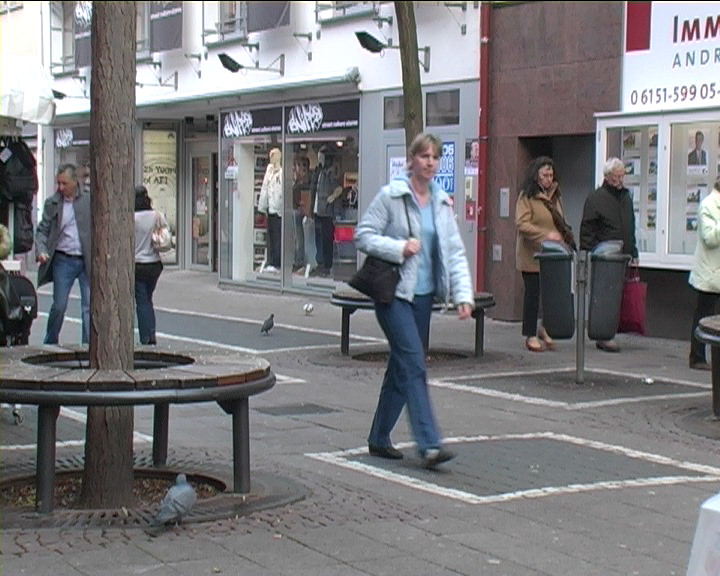undeflect: (382, 133, 463, 216)
